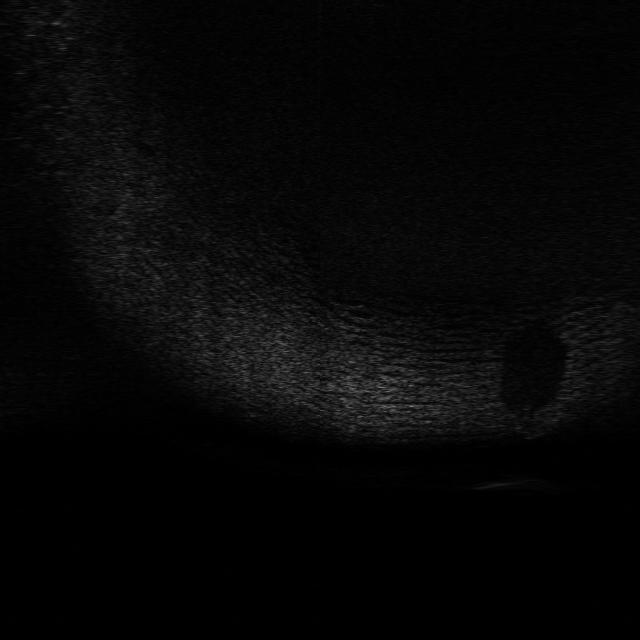cube: (507, 403, 574, 441)
